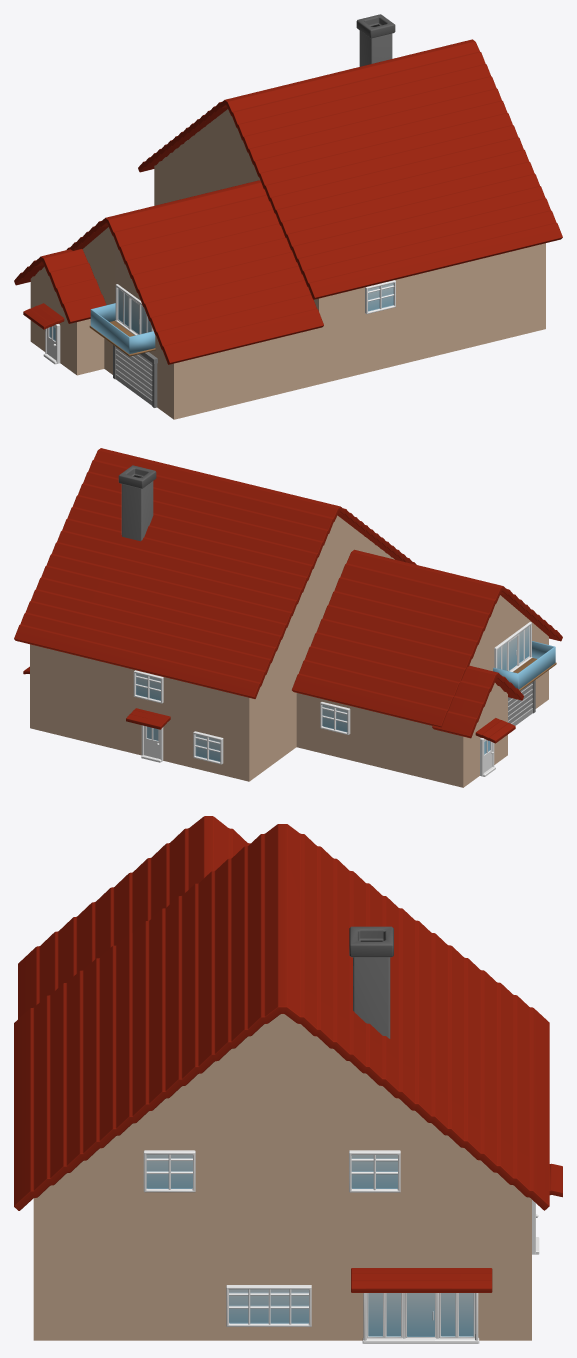
The model's file is Outside shell.fbx.
3 renders of one model, top to bottom at view 1: azimuth 30°, elevation 25°; view 2: azimuth 150°, elevation 25°; view 3: azimuth 270°, elevation 25°, orthographic. The views are drawn at different scales.
Visible parts, largest first — view 1: Plane.023, Plane.019, Plane.021, Plane.018, Plane.022, Plane.020, Cube.126, Plane.025, Cube.007, Door_frame.017, Window.008, Cube.005; view 2: Plane.023, Plane.021, Plane.019, Plane.018, Plane.022, Plane.020, Cube.007, Plane.025, Door_frame.017, Window.012, Window.002, Window.011 (+4 smaller); view 3: Plane.021, Plane.023, Plane.019, Door_frame.015, Cube.007, Window.014, Cube.006, Window.009, Window.010, Door_frame.014.
Boxes of the visible parts, left/top/right/bottom form: Plane.023: left=138, top=39, right=562, bottom=299; Plane.019: left=66, top=180, right=323, bottom=364; Plane.021: left=154, top=109, right=545, bottom=384; Plane.018: left=82, top=227, right=318, bottom=419; Plane.022: left=30, top=266, right=104, bottom=375; Plane.020: left=14, top=249, right=106, bottom=323; Cube.126: left=113, top=345, right=157, bottom=407; Plane.025: left=89, top=303, right=155, bottom=356; Cube.007: left=356, top=14, right=395, bottom=66; Door_frame.017: left=117, top=288, right=151, bottom=334; Window.008: left=365, top=280, right=395, bottom=314; Cube.005: left=23, top=303, right=64, bottom=329; Plane.023: left=14, top=448, right=416, bottom=698; Plane.021: left=30, top=515, right=394, bottom=781; Plane.019: left=292, top=549, right=562, bottom=727; Plane.018: left=296, top=595, right=548, bottom=781; Plane.022: left=437, top=683, right=507, bottom=787; Plane.020: left=432, top=665, right=523, bottom=738; Cube.007: left=118, top=465, right=156, bottom=541; Plane.025: left=493, top=641, right=556, bottom=690; Door_frame.017: left=497, top=626, right=529, bottom=671; Window.012: left=193, top=731, right=223, bottom=764; Window.002: left=320, top=702, right=350, bottom=734; Window.011: left=133, top=670, right=163, bottom=703; Plane.021: left=33, top=1014, right=531, bottom=1340; Plane.023: left=14, top=824, right=549, bottom=1210; Plane.019: left=18, top=816, right=250, bottom=1018; Door_frame.015: left=367, top=1293, right=474, bottom=1338; Cube.007: left=349, top=926, right=393, bottom=1038; Window.014: left=226, top=1285, right=311, bottom=1326; Cube.006: left=351, top=1268, right=492, bottom=1292; Window.009: left=143, top=1150, right=195, bottom=1192; Window.010: left=349, top=1150, right=400, bottom=1192; Door_frame.014: left=362, top=1293, right=479, bottom=1343.
Bounding box in the file's own units: 2822 × 1471 × 2016.
Materials: 2 (2 with a texture image).
